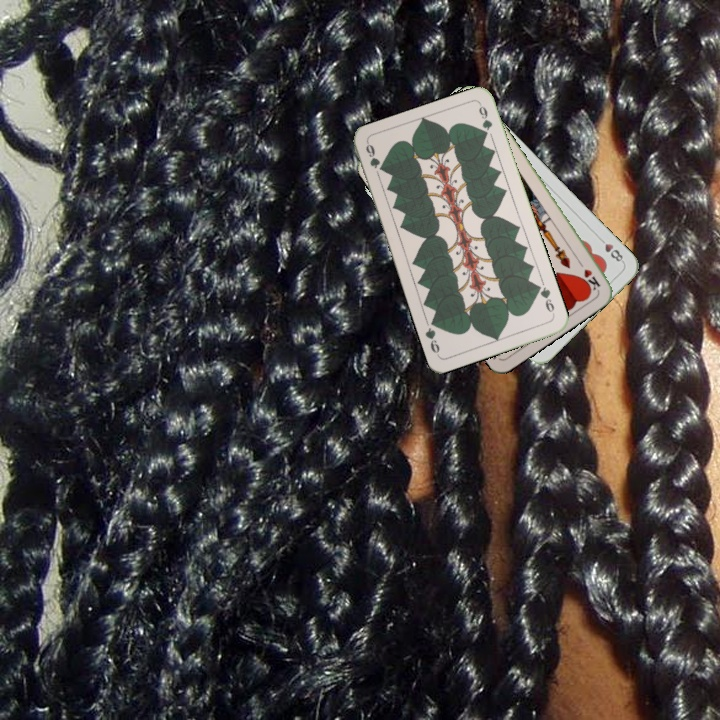G9: (532, 281, 557, 318), (362, 139, 386, 174)
H8: (594, 233, 626, 266)
HK: (573, 256, 603, 293)
